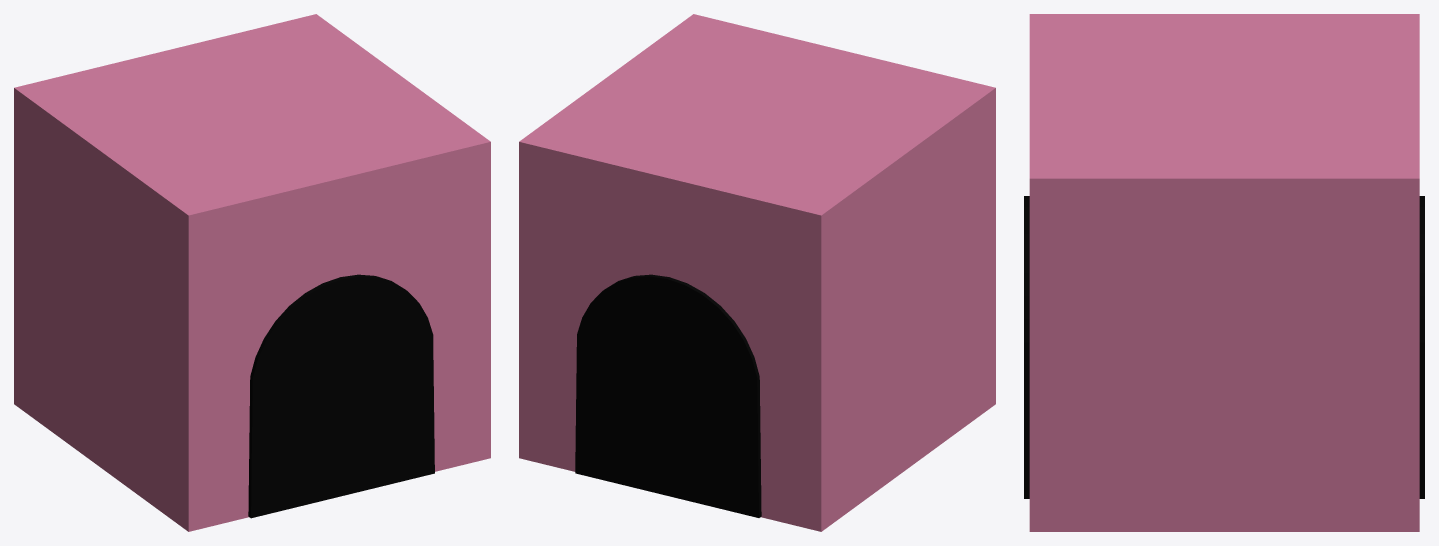
The model's file is house.glb.
3 renders of one model, left to right at view 1: azimuth 30°, elevation 25°; view 2: azimuth 150°, elevation 25°; view 3: azimuth 270°, elevation 25°, orthographic. The views are drawn at different scales.
Parts seen in each view (by area): view 1: Cube.001, Cylinder; view 2: Cube.001, Cylinder.001; view 3: Cube.001, Cylinder, Cylinder.001.
Boxes of the visible parts, x1,y1,x2,y2 form: Cube.001: (14, 14, 490, 531); Cylinder: (248, 274, 434, 518); Cube.001: (519, 14, 995, 531); Cylinder.001: (575, 274, 761, 517); Cube.001: (1029, 14, 1419, 531); Cylinder: (1024, 196, 1029, 498); Cylinder.001: (1419, 196, 1424, 498).
Bounding box in the file's own units: 1 × 1 × 1.03.
